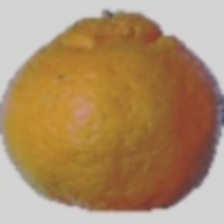tangerine: (33, 47, 203, 209)
